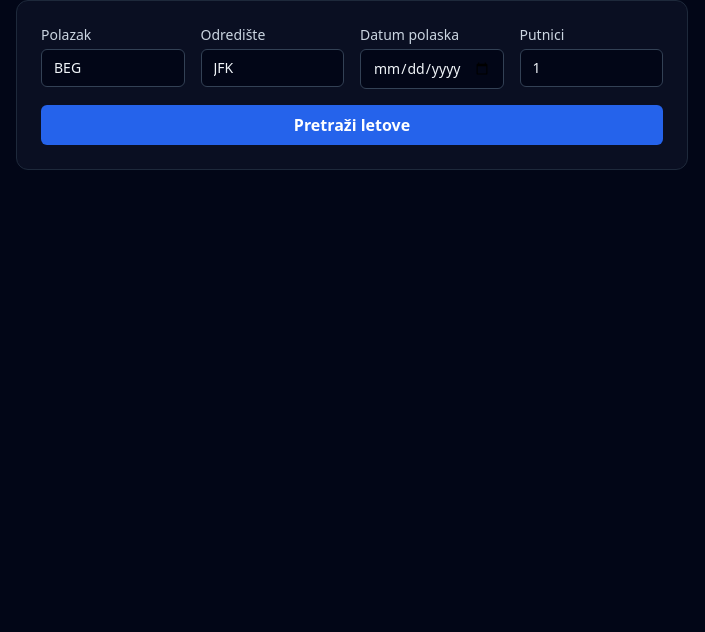
Test: SearchForm › renders one passenger form block per adult and shows seat selection for a single passenger
Click the button "Pretraži letove" at [352, 125], box [41,105,663,145]
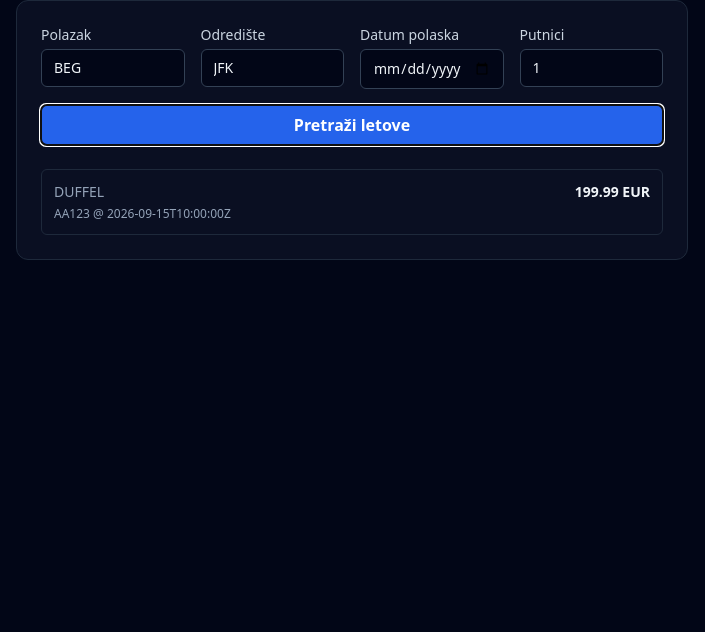
Click the list item "duffel" at [352, 202], box [41,169,663,235]
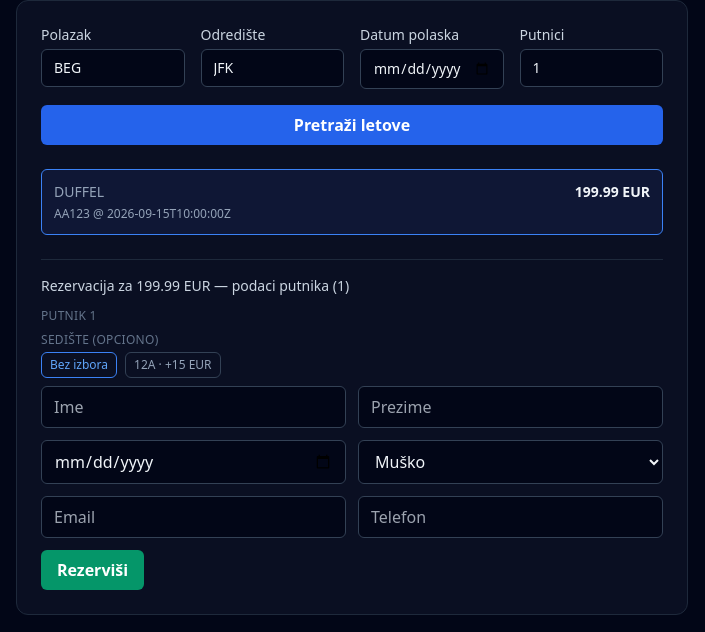
Expected: the number of fields with placeholder "Ime" is 1, [41,386,346,428]
Expected: the button "12A · +15 EUR" is shown, [125,352,220,378]
